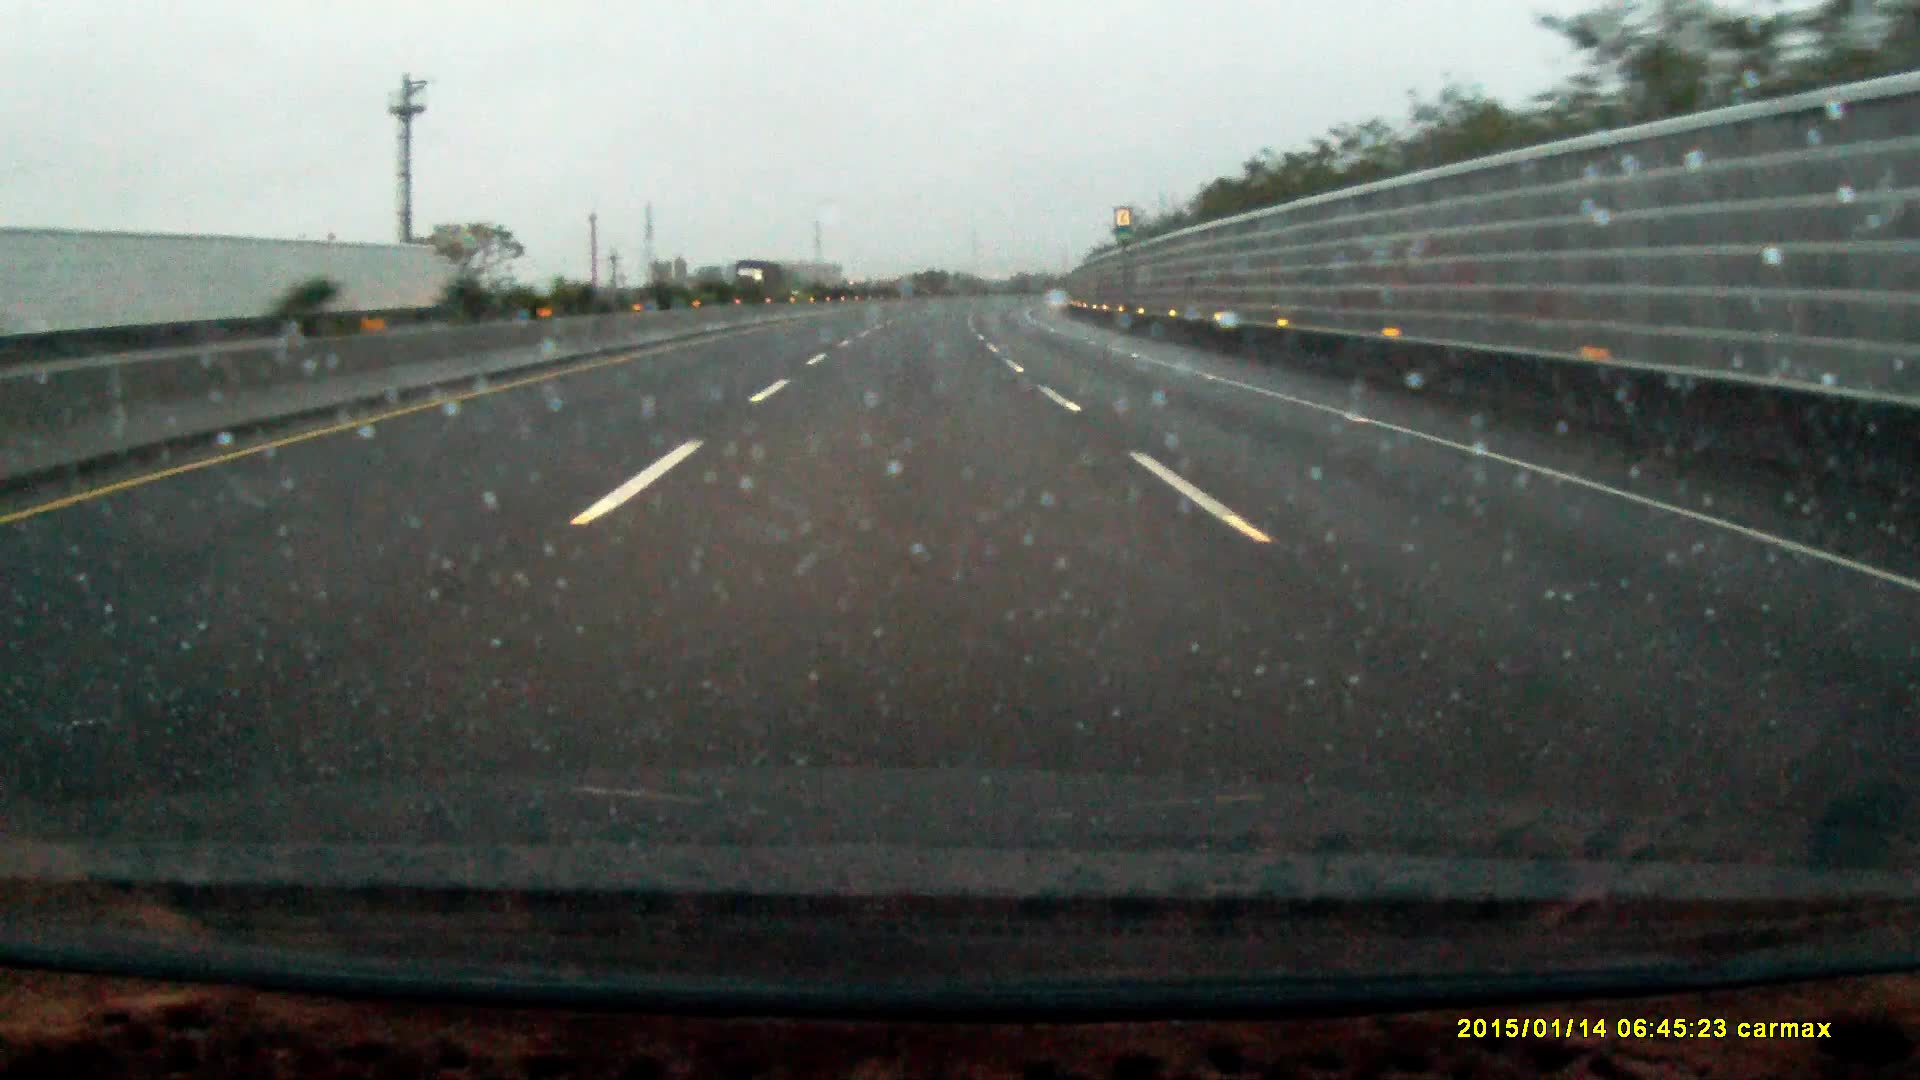vehicle: (735, 264, 783, 301)
